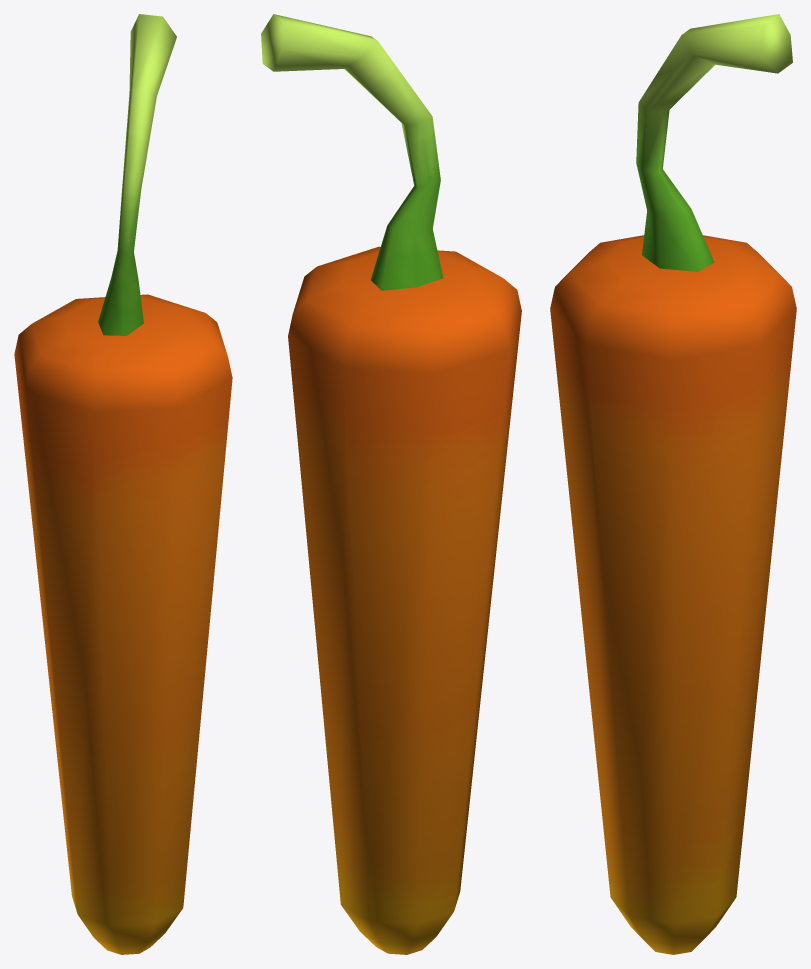
File: C_carotte_01.FBX
3 views of the same model, side by side, from view 1: azimuth 30°, elevation 25°; view 2: azimuth 150°, elevation 25°; view 3: azimuth 270°, elevation 25° (orthographic). The views are drawn at different scales.
Visible parts, largest first — view 1: carotte; view 2: carotte; view 3: carotte.
Part boxes in pixels (bbox=[...]): carotte: bbox=[14, 14, 232, 954]; carotte: bbox=[261, 14, 521, 954]; carotte: bbox=[550, 14, 796, 954].
Size of the model in its own units: 14.19 by 61.46 by 14.19.
